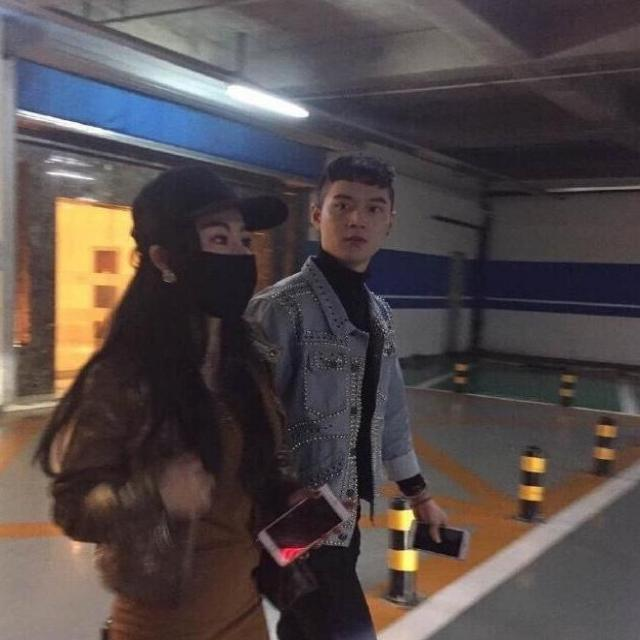mask: (181, 205, 249, 302)
nomask: (320, 177, 389, 259)
